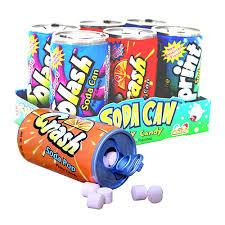Aluminum can: (16, 109, 147, 195), (46, 29, 106, 124), (93, 30, 158, 114), (148, 25, 210, 102), (29, 19, 72, 126), (77, 8, 176, 34)
